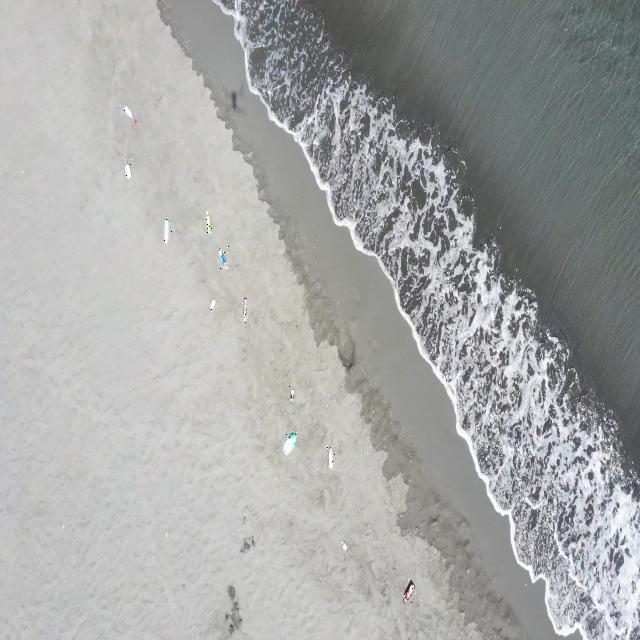Garbage: (224, 584, 241, 633), (281, 432, 296, 455), (123, 104, 136, 123), (240, 535, 253, 552), (403, 580, 412, 602), (218, 247, 226, 268), (204, 209, 211, 232), (241, 296, 247, 322), (163, 218, 169, 243), (327, 446, 332, 467), (231, 91, 236, 110), (340, 540, 347, 551), (124, 163, 129, 178), (209, 298, 215, 310), (288, 386, 293, 400)
